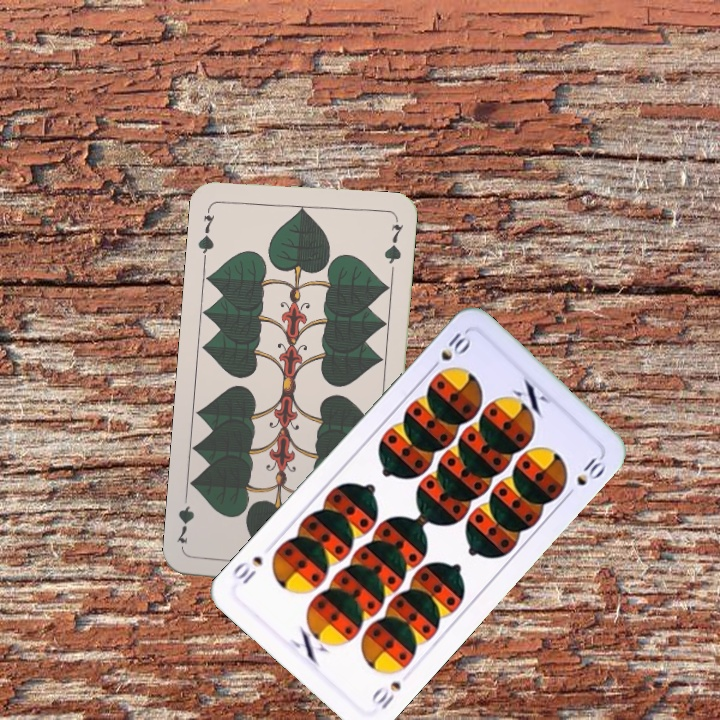G7: (194, 203, 217, 262)
S10: (425, 327, 473, 374), (367, 677, 404, 713)
